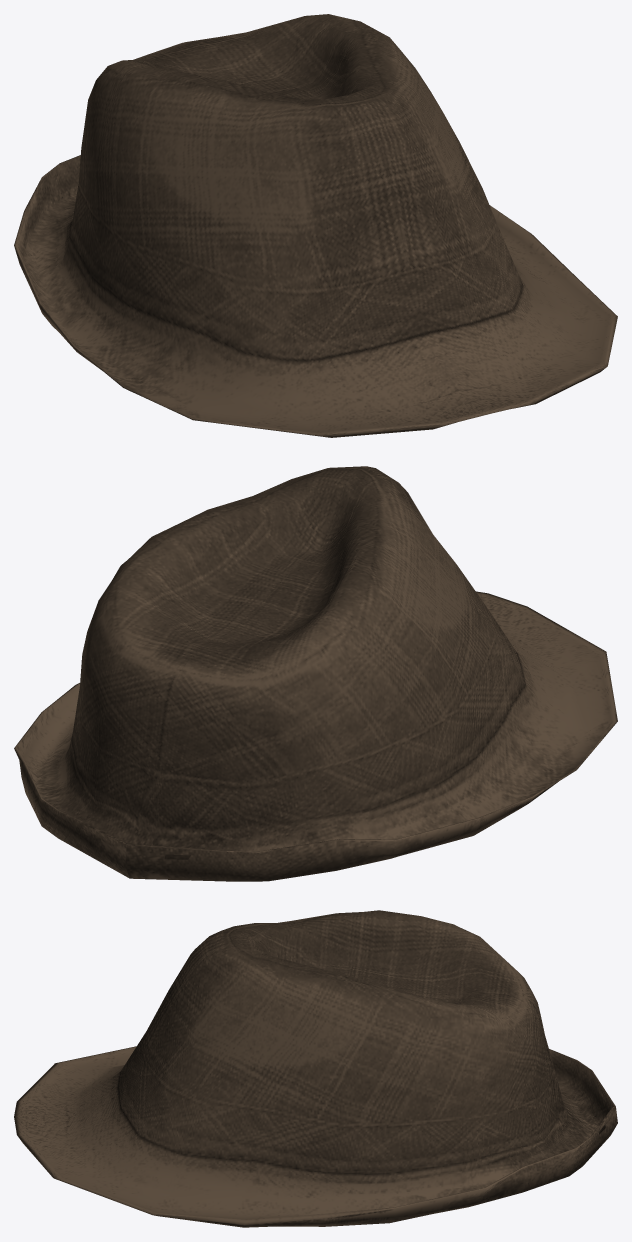
The model's file is male_hat.glb.
3 renders of one model, top to bottom at view 1: azimuth 30°, elevation 25°; view 2: azimuth 150°, elevation 25°; view 3: azimuth 270°, elevation 25°, orthographic. The views are drawn at different scales.
Visible parts, largest first — view 1: hat; view 2: hat; view 3: hat.
Part boxes in pixels (x1,y1,x2,y2): hat: (14,14,617,437); hat: (14,466,617,881); hat: (14,910,617,1227).
Size of the model in its own units: 0.1988 by 0.1038 by 0.2729.
1 material, 1 textured.
